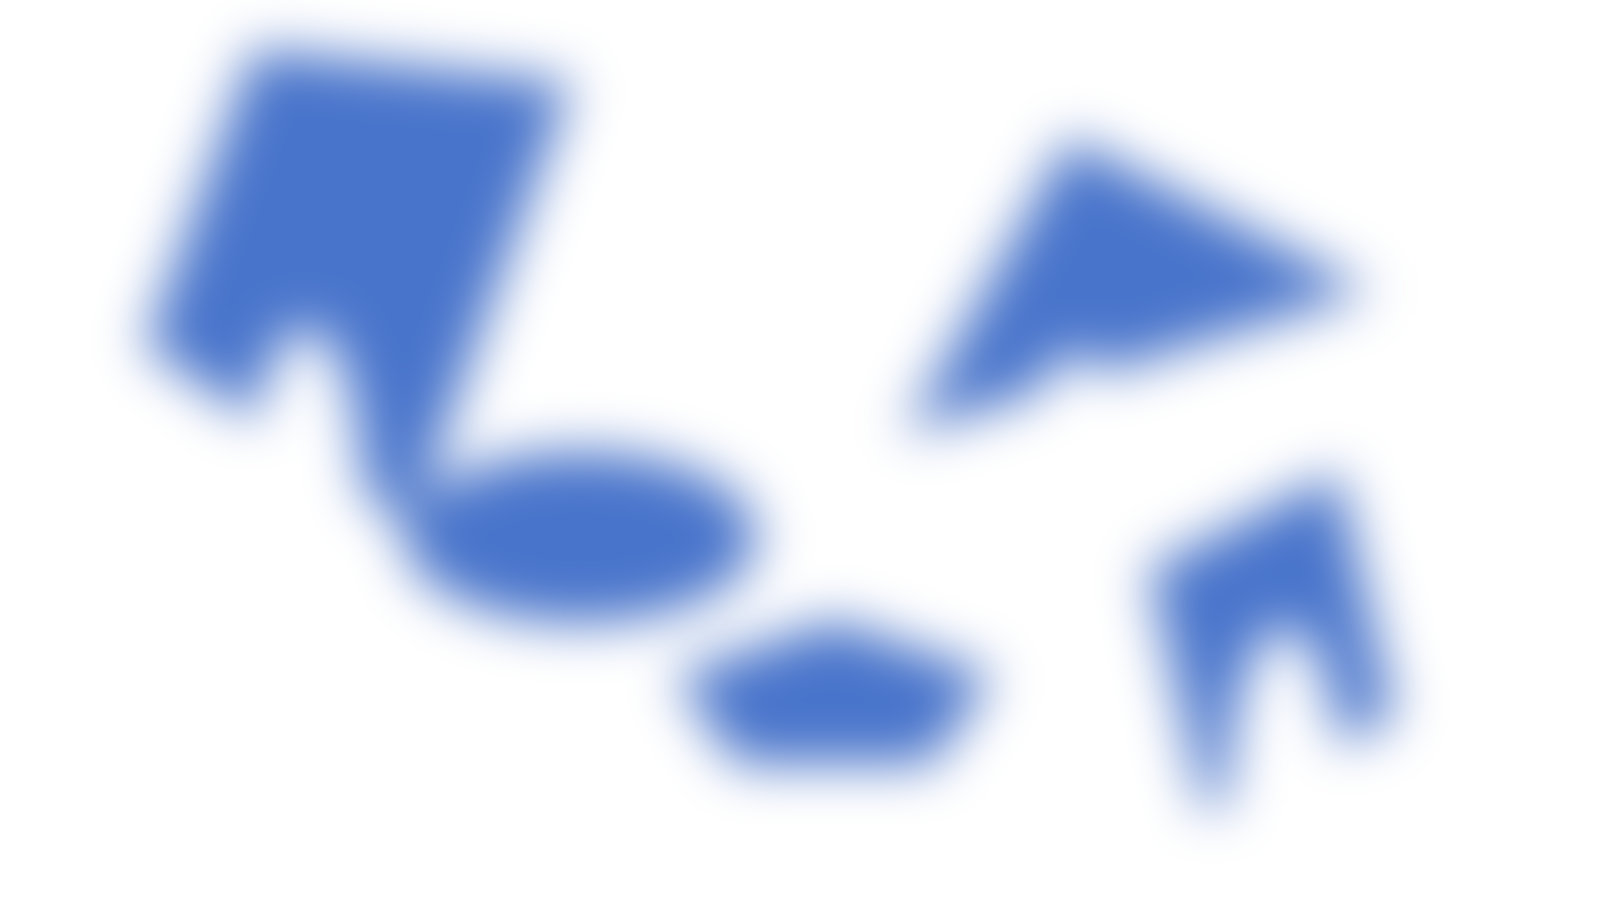circle: (373, 435, 813, 647)
parallelogram: (1132, 456, 1424, 804)
pentagon: (677, 603, 995, 788)
trapezium: (93, 7, 583, 521)
triangle: (899, 102, 1354, 441)
